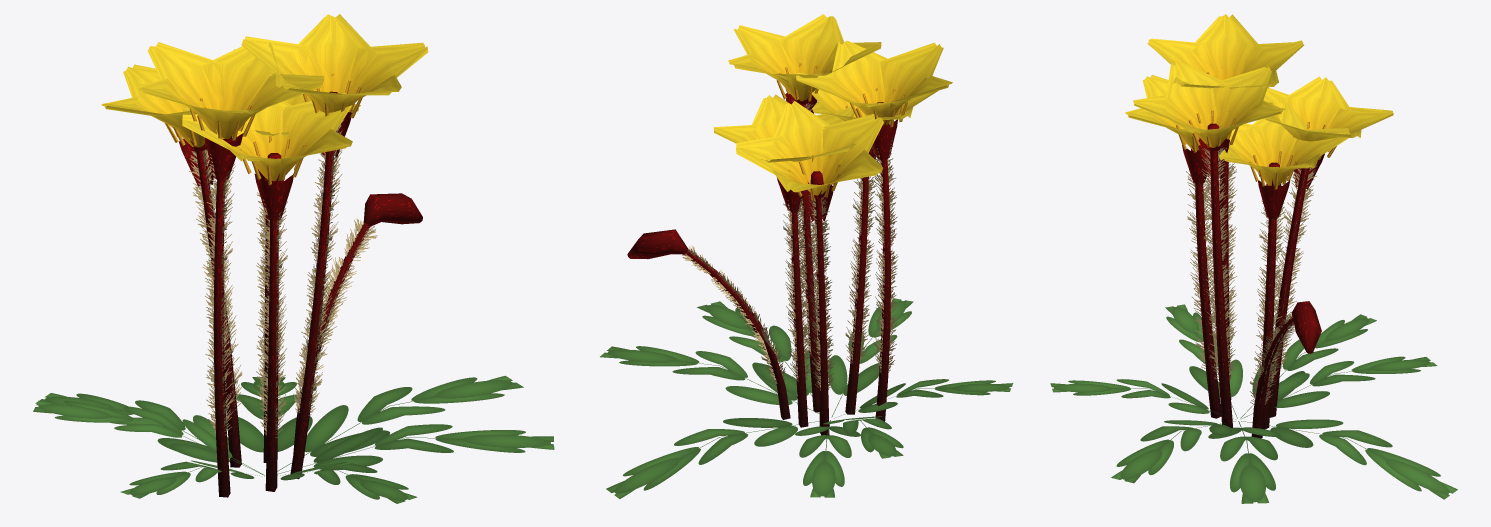
File: arctic_poppy_v01_LOD1.glb
The picture shows the model from 3 angles, left to right: view 1: azimuth 30°, elevation 25°; view 2: azimuth 150°, elevation 25°; view 3: azimuth 270°, elevation 25°; orthographic projection. The views are drawn at different scales.
Parts seen in each view (by area): view 1: arctic_poppy_v01_LOD1; view 2: arctic_poppy_v01_LOD1; view 3: arctic_poppy_v01_LOD1.
Boxes of the visible parts, box(x1,y1,x2,y2) form: arctic_poppy_v01_LOD1: box(33, 14, 554, 503); arctic_poppy_v01_LOD1: box(600, 14, 1013, 498); arctic_poppy_v01_LOD1: box(1050, 14, 1457, 503).
Size of the model in its own units: 0.157 by 0.1507 by 0.157.
5 materials, 5 textured.
